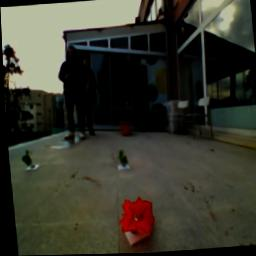herb: (20, 149, 33, 169), (116, 150, 128, 168)
wild: (117, 196, 155, 240)
